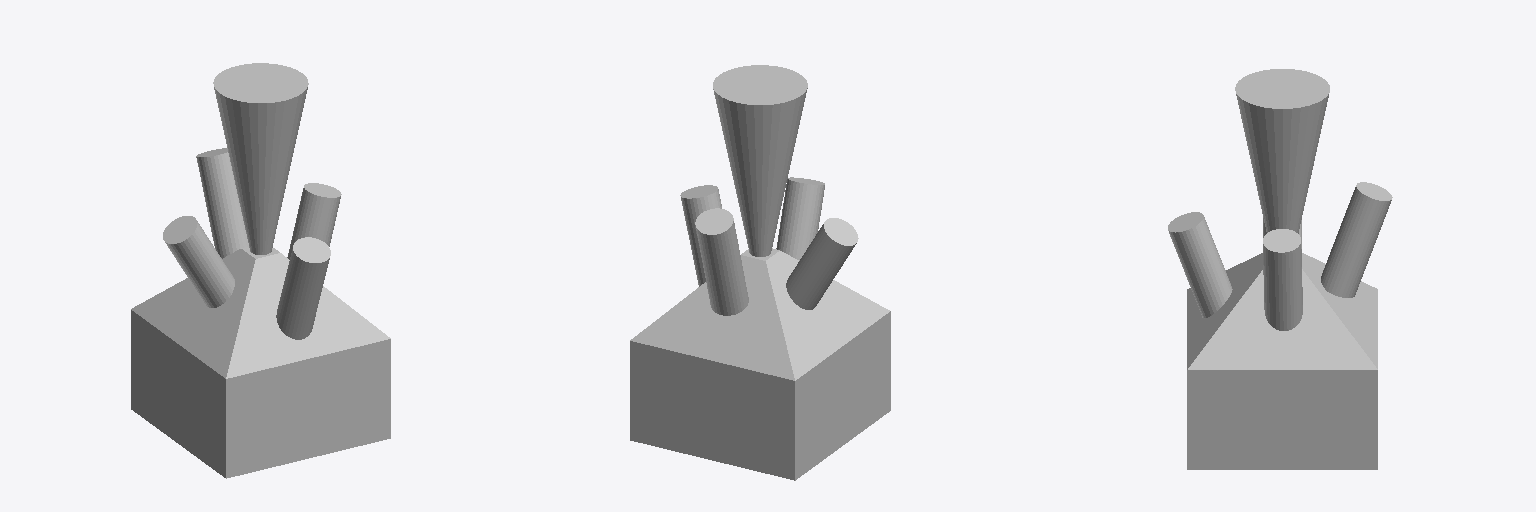
File: mortar_tower.obj
3 renders of one model, left to right at view 1: azimuth 30°, elevation 25°; view 2: azimuth 150°, elevation 25°; view 3: azimuth 270°, elevation 25°, orthographic.
Visible parts, largest first — view 1: Cube; view 2: Cube; view 3: Cube.
Boxes of the visible parts, <box> form: Cube: <box>131,63,390,478</box>; Cube: <box>630,65,890,480</box>; Cube: <box>1168,69,1392,469</box>.
Size of the model in its own units: 2.15 by 3.93 by 2.36.